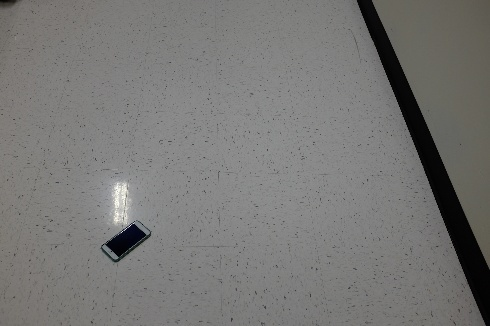phone: (100, 225, 149, 257)
